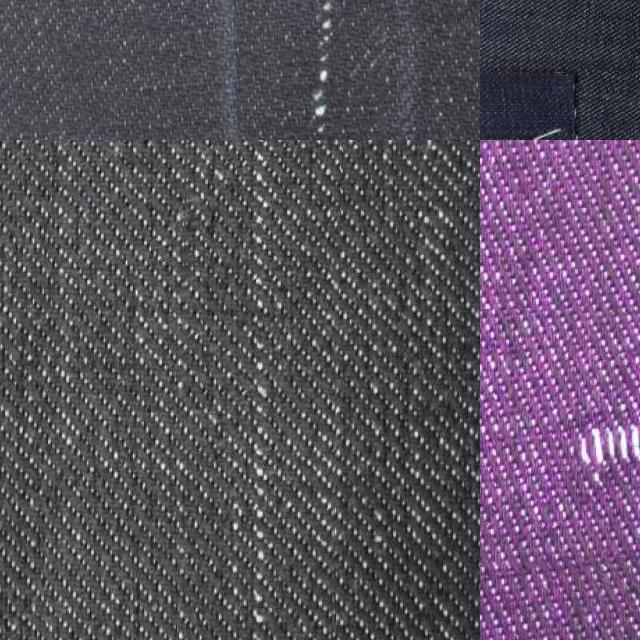Thread_other: (179, 140, 340, 640), (480, 310, 640, 569), (239, 0, 386, 140)
